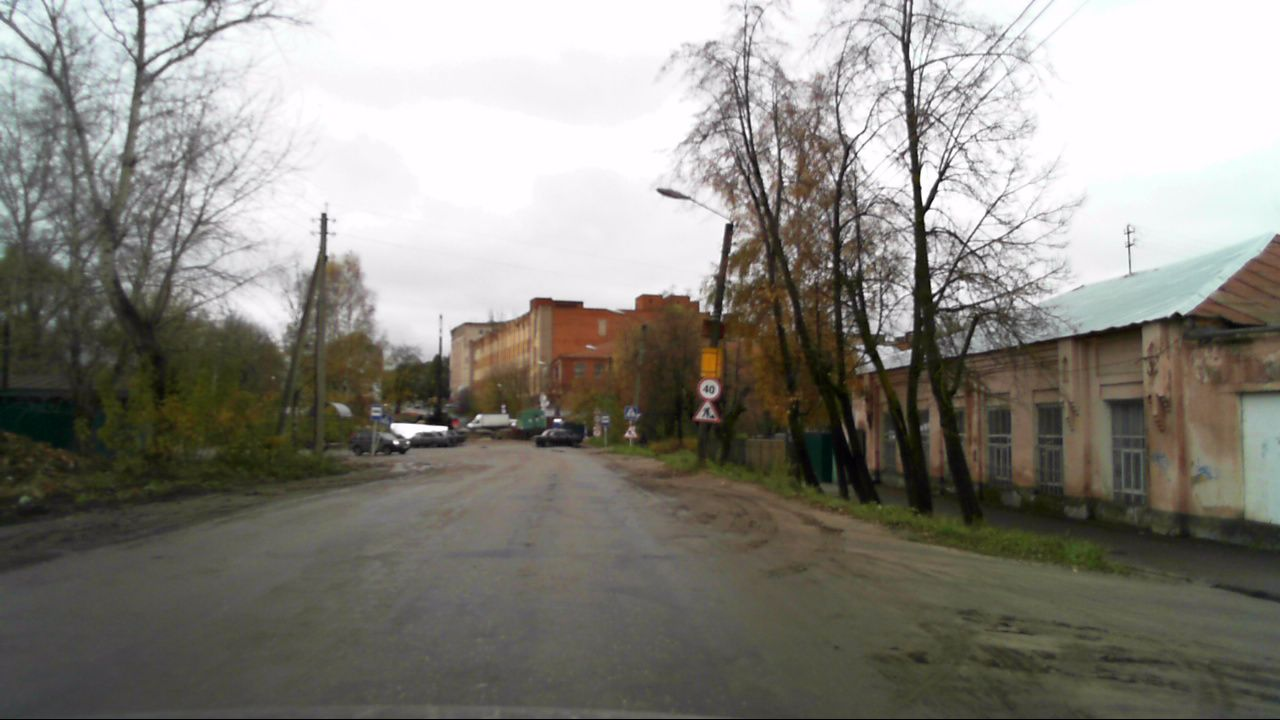speed_warning_40: (697, 377, 721, 401)
